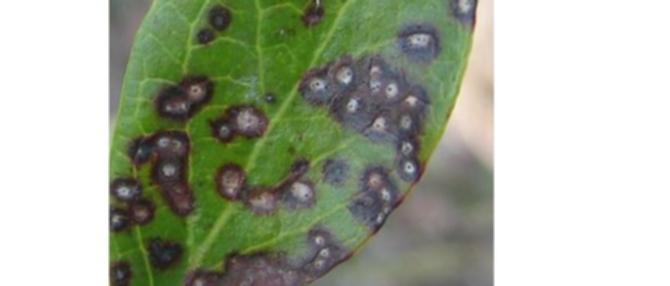Tomato Septoria leaf spot: (111, 0, 483, 286)
